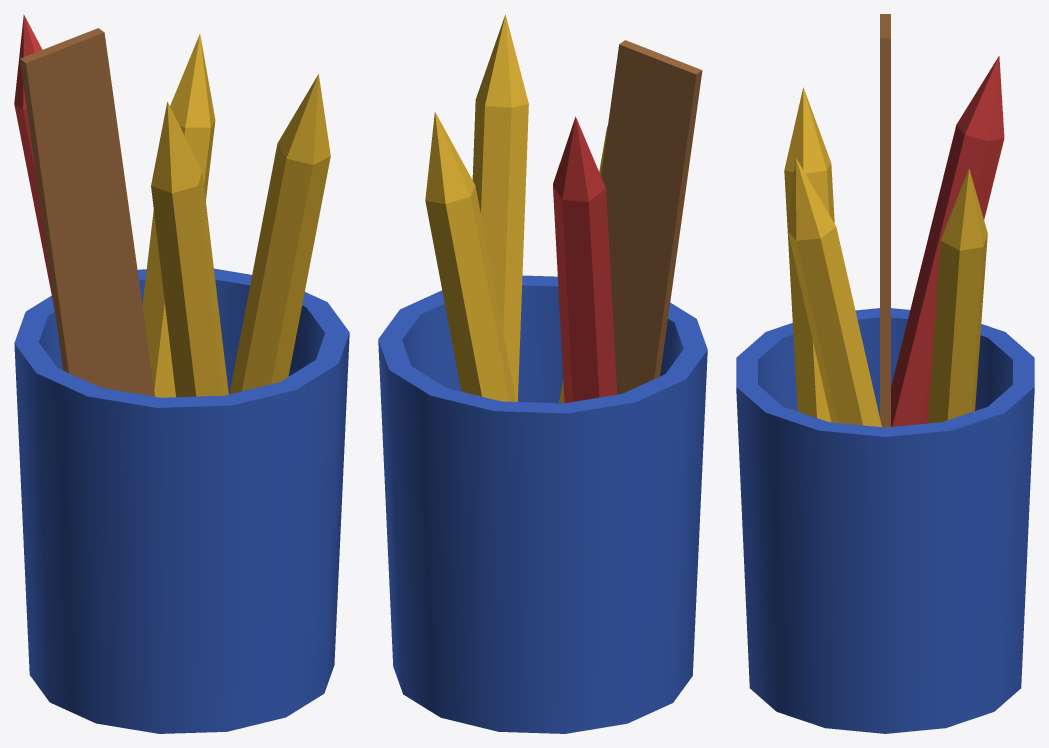
Rendered from pencil-cup.glb.
3 renders of one model, left to right at view 1: azimuth 30°, elevation 25°; view 2: azimuth 150°, elevation 25°; view 3: azimuth 270°, elevation 25°, orthographic. The views are drawn at different scales.
Parts seen in each view (by area): view 1: Pencil cup, Pencils; view 2: Pencil cup, Pencils; view 3: Pencil cup, Pencils.
Boxes of the visible parts, <box> form: Pencil cup: <box>14,268,349,733</box>; Pencils: <box>14,14,330,397</box>; Pencil cup: <box>378,275,707,733</box>; Pencils: <box>425,14,702,403</box>; Pencil cup: <box>736,308,1034,733</box>; Pencils: <box>784,14,1004,427</box>.
Bounding box in the file's own units: 0.1151 × 0.2381 × 0.1072.
